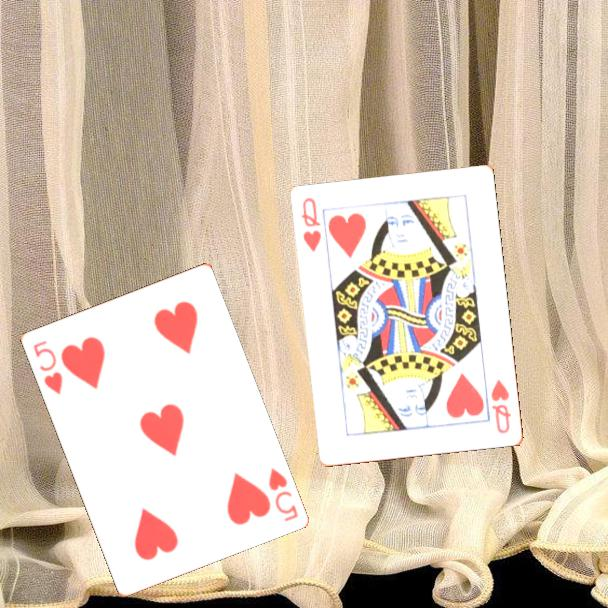h05: (264, 464, 301, 524), (29, 337, 65, 397)
h12: (488, 376, 514, 437), (298, 194, 324, 255)
